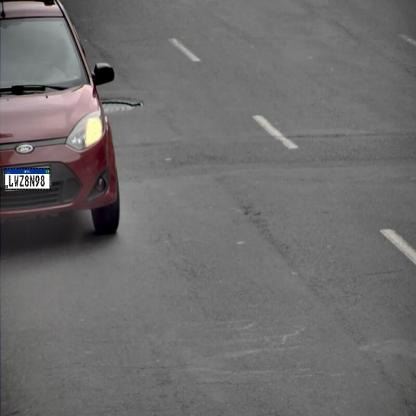PlacaM: (4, 168, 51, 190)
